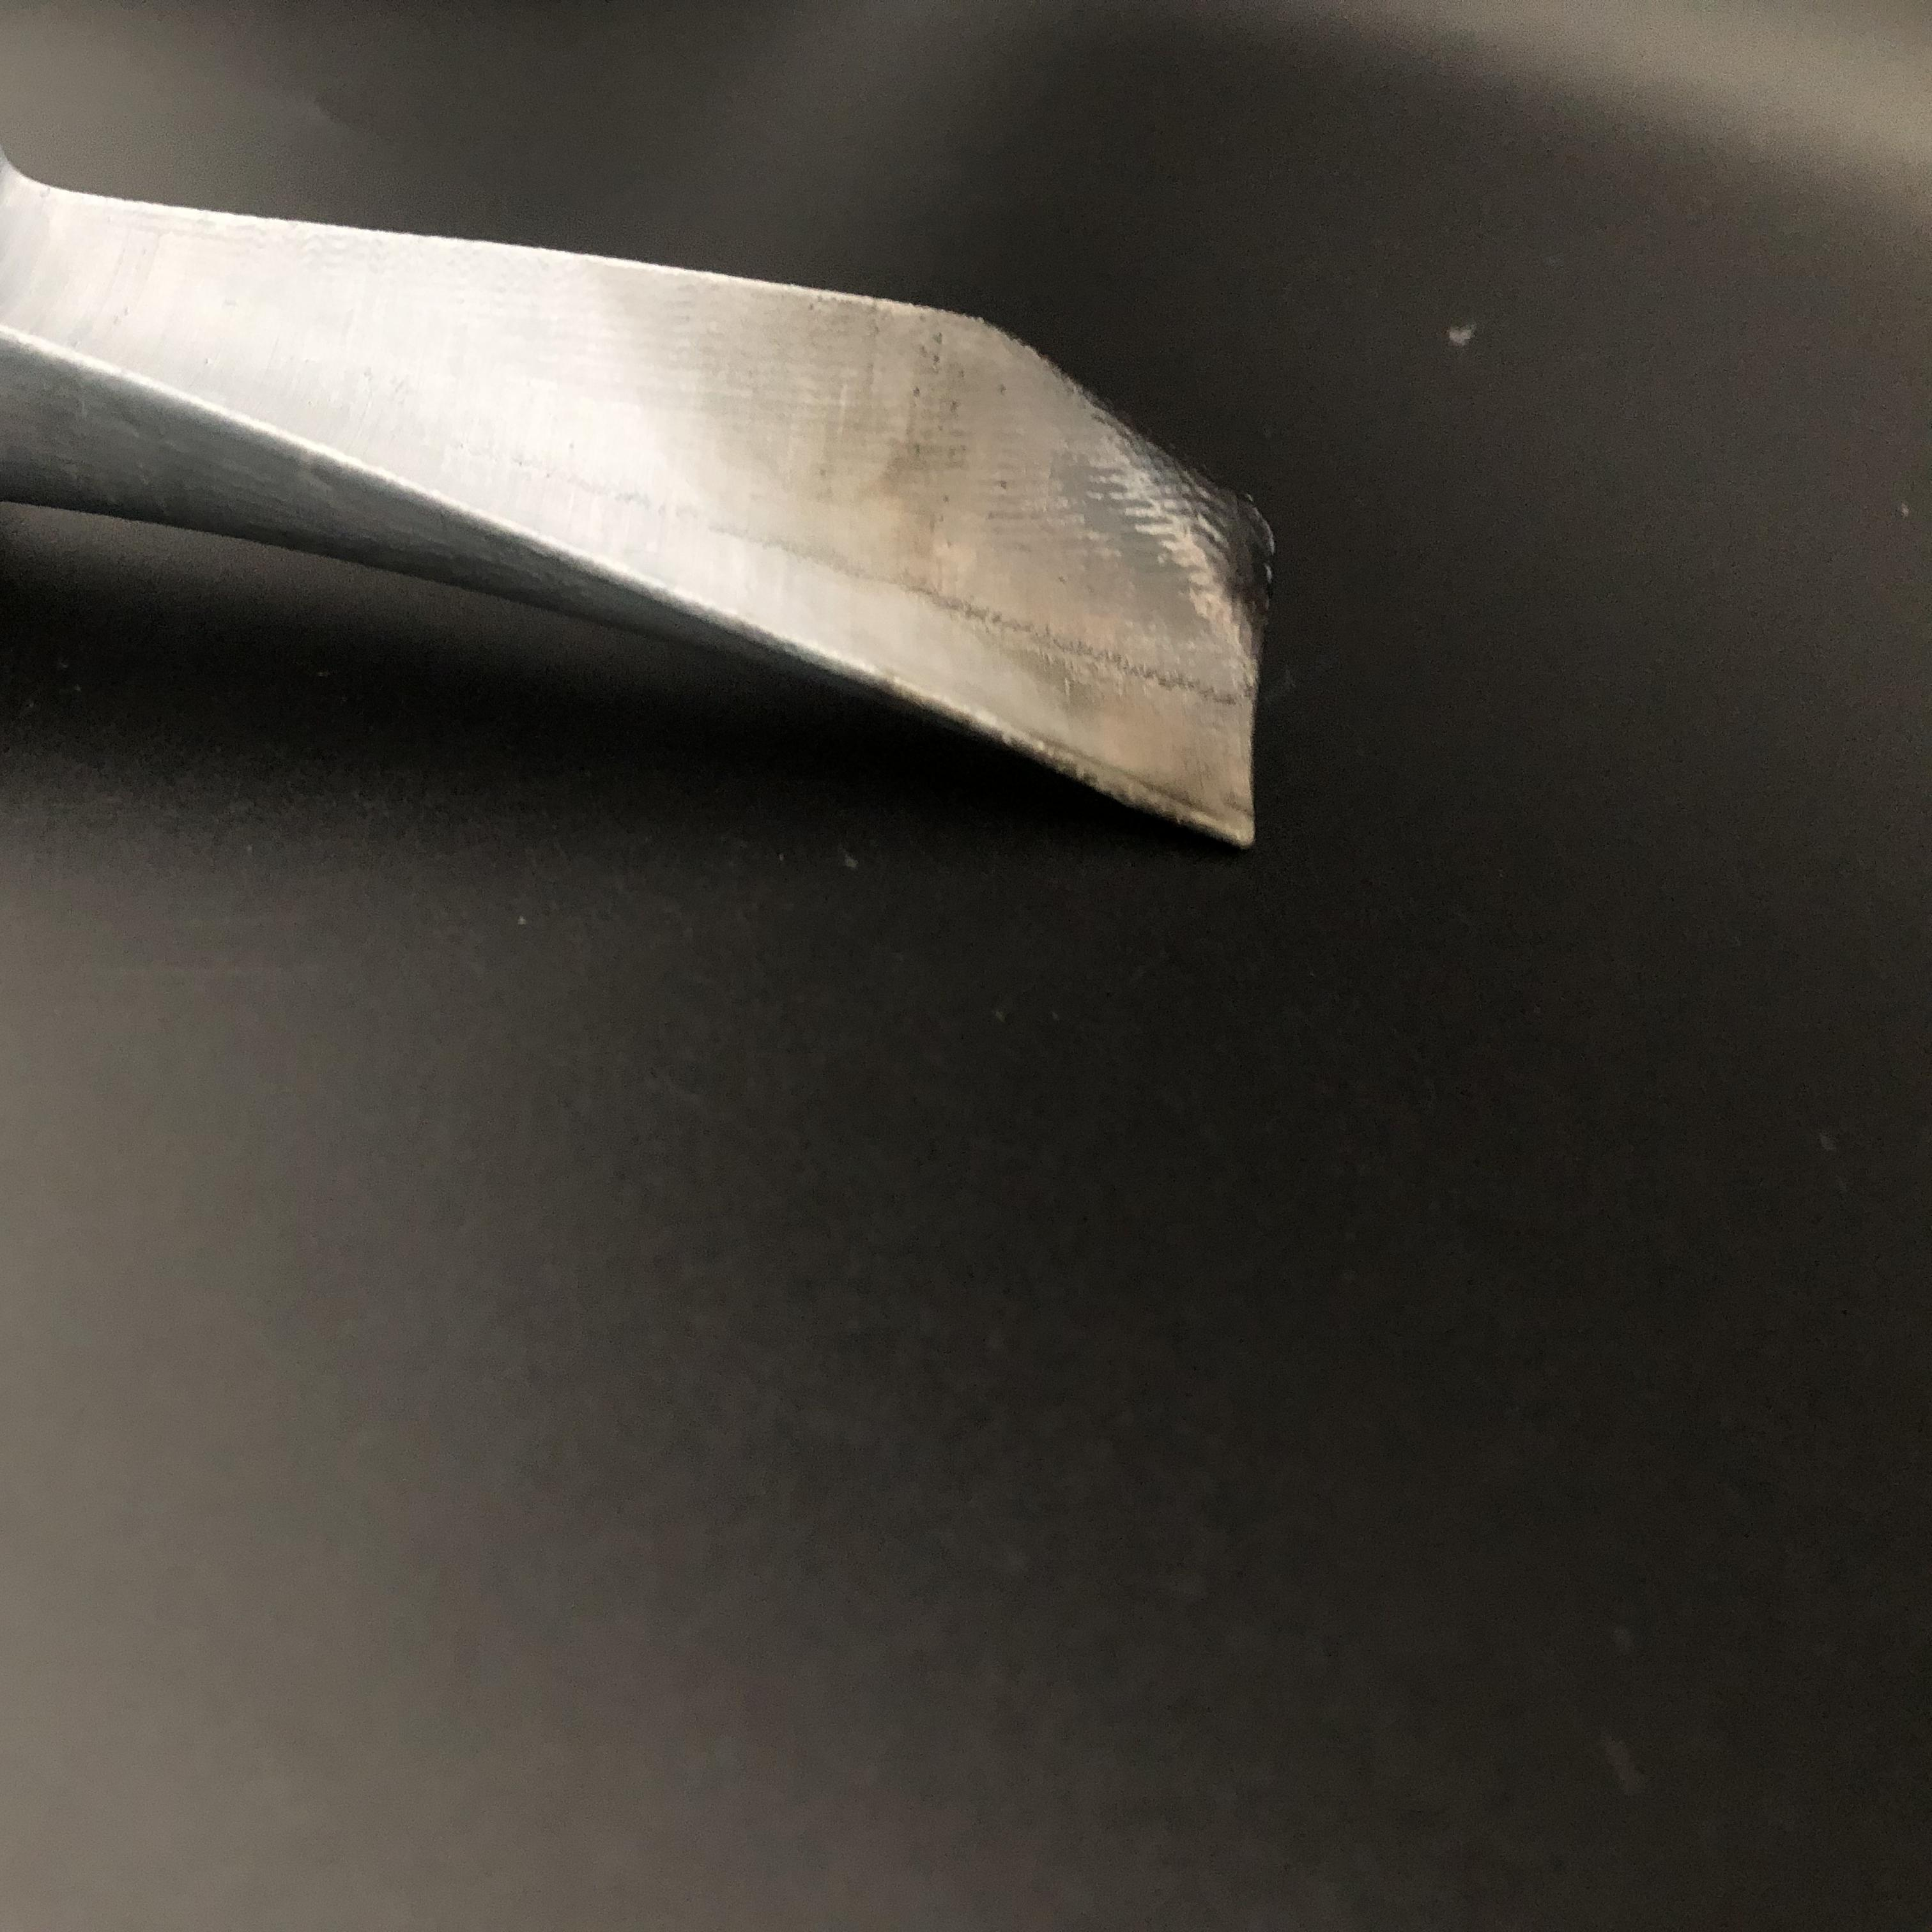ablation: (775, 313, 1251, 801)
